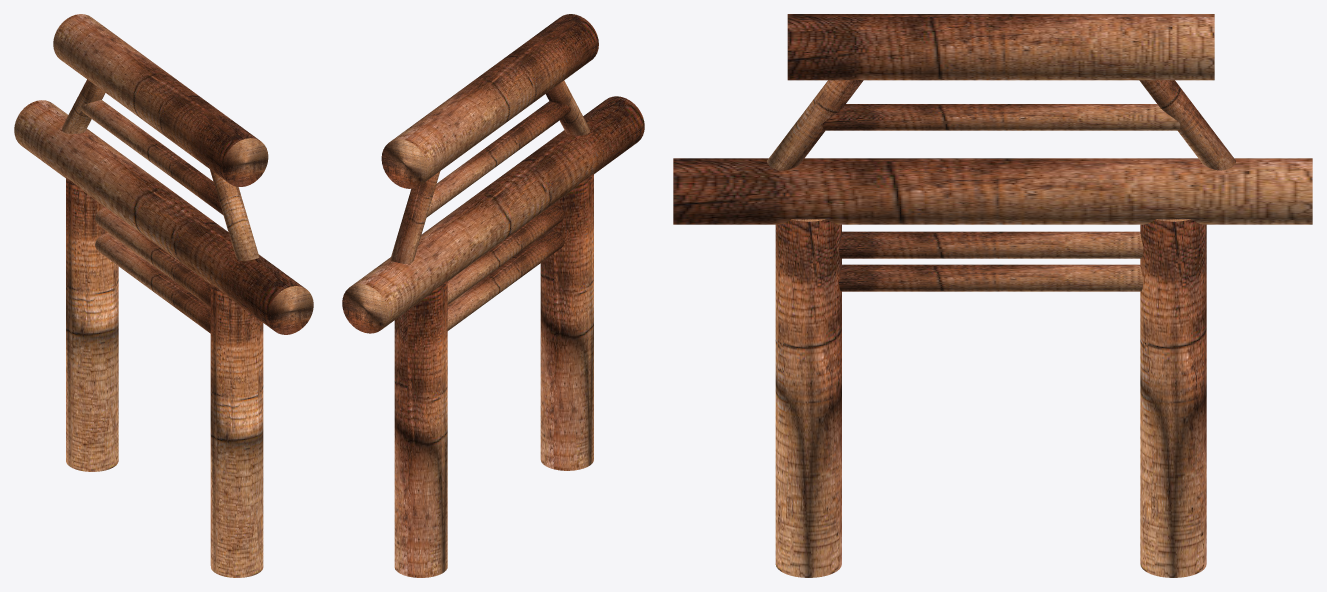
The model's file is gate.fbx.
3 views of the same model, side by side, from view 1: azimuth 30°, elevation 25°; view 2: azimuth 150°, elevation 25°; view 3: azimuth 270°, elevation 25° (orthographic). The views are drawn at different scales.
Visible parts, largest first — view 1: Cylinder.002; view 2: Cylinder.002; view 3: Cylinder.002.
Boxes of the visible parts, bbox=[...] form: Cylinder.002: bbox=[14, 14, 313, 577]; Cylinder.002: bbox=[342, 14, 644, 577]; Cylinder.002: bbox=[673, 14, 1312, 577].
Size of the model in its own units: 348 by 3164 by 3353.
Materials: 1 (1 with a texture image).
